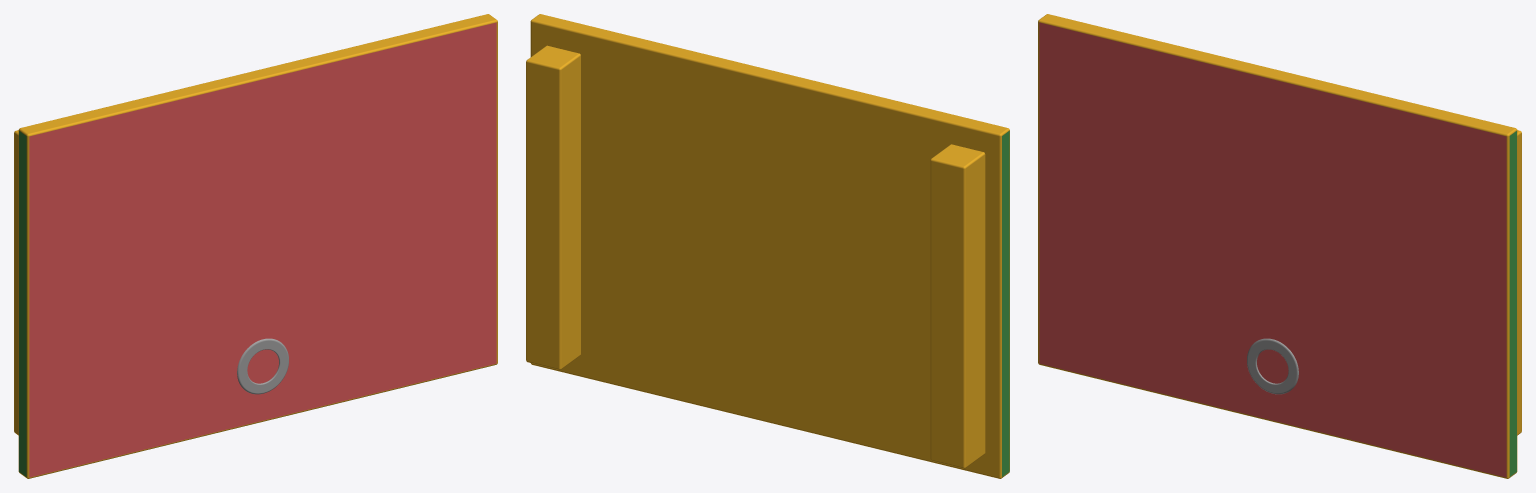
File: Dial Table (1).fbx
3 views of the same model, side by side, from view 1: azimuth 30°, elevation 25°; view 2: azimuth 150°, elevation 25°; view 3: azimuth 330°, elevation 25° (orthographic).
Parts seen in each view (by area): view 1: Body1 (×2); view 2: Body1; view 3: Body1 (×2).
Part boxes in pixels (bbox=[...]): Body1 (×2): bbox=[14, 14, 497, 478]; Body1: bbox=[526, 14, 1009, 478]; Body1 (×2): bbox=[1038, 14, 1521, 478].
Bounding box in the file's own units: 508 × 356 × 57.31.
